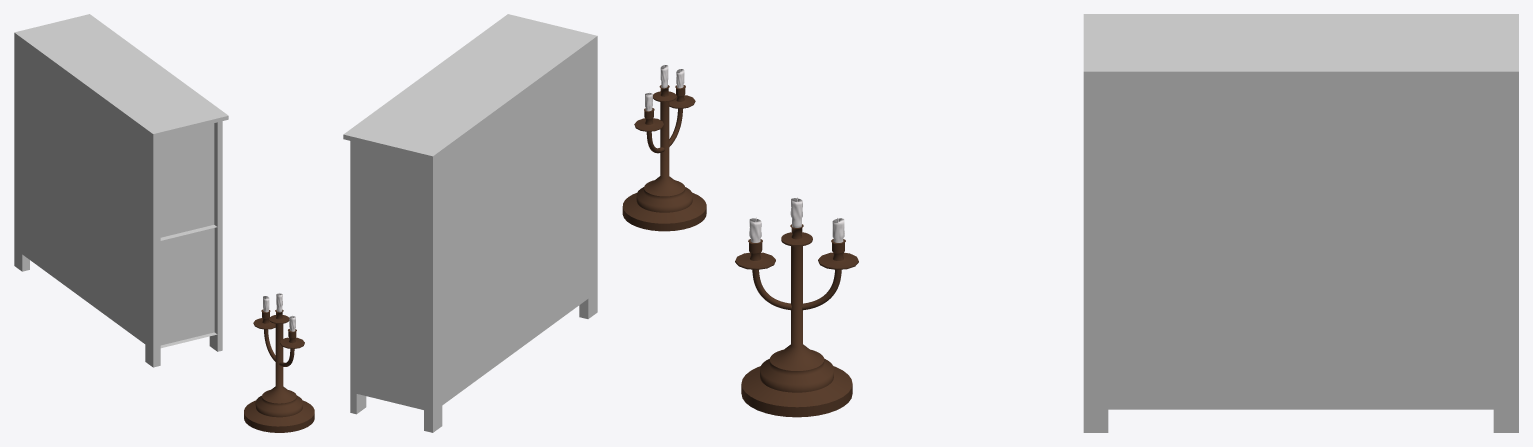
The model's file is lilin.fbx.
3 views of the same model, side by side, from view 1: azimuth 30°, elevation 25°; view 2: azimuth 150°, elevation 25°; view 3: azimuth 270°, elevation 25° (orthographic). The views are drawn at different scales.
Visible parts, largest first — view 1: Cube, Cylinder, NurbsPath; view 2: Cube, Cylinder, NurbsPath; view 3: Cube, Cylinder, NurbsPath.
Part boxes in pixels (x1,y1,x2,y2): Cube: (14, 14, 228, 367); Cylinder: (244, 309, 314, 432); NurbsPath: (253, 309, 304, 366); Cube: (343, 14, 597, 432); Cylinder: (622, 85, 706, 231); NurbsPath: (634, 85, 695, 153); Cube: (1083, 14, 1518, 432); Cylinder: (741, 224, 852, 417); NurbsPath: (735, 239, 858, 310).
Size of the model in its own units: 126 by 373 by 724.
